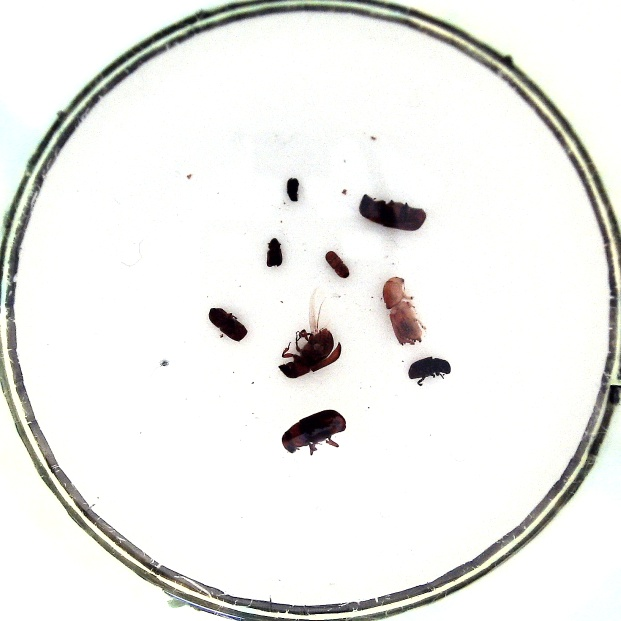acuminatus: (287, 177, 299, 202)
armandi: (408, 357, 451, 379)
boerner: (383, 276, 423, 346)
coleoptera: (325, 250, 349, 278), (267, 238, 282, 267)
leconte: (281, 409, 346, 453), (278, 328, 333, 378), (359, 194, 426, 231)
linnaeus: (208, 307, 247, 342)
